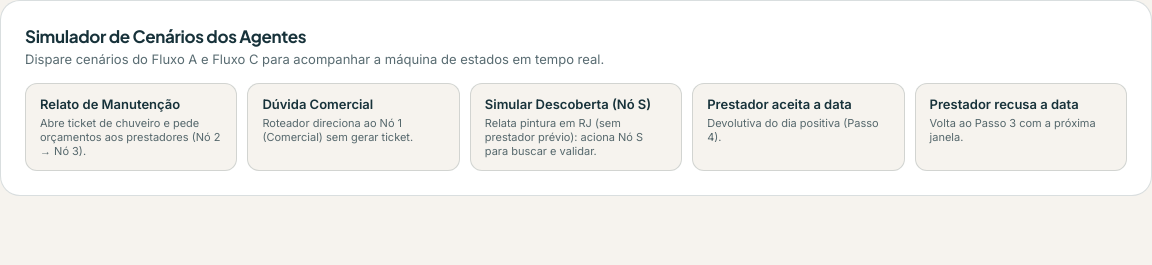
Test: simulador do prestador › envia a devolutiva do dia ao backend e avisa a tela
Click the button "Prestador recusa a data".
click(1021, 127)  # box [915, 83, 1127, 171]
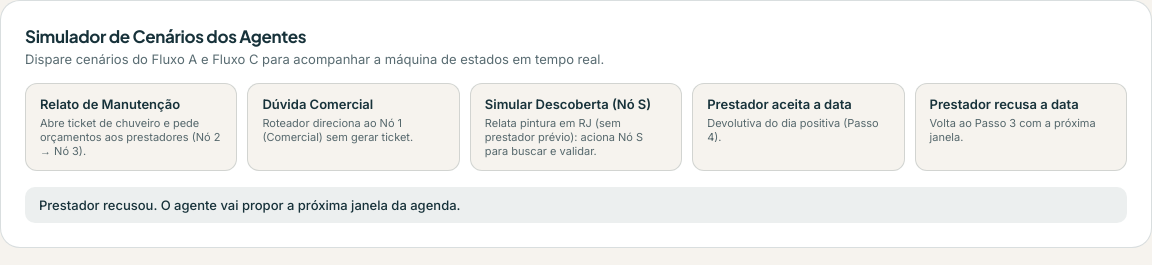
Expected: the text "O agente vai propor a próxima janela" is shown, [39, 197, 460, 213]
